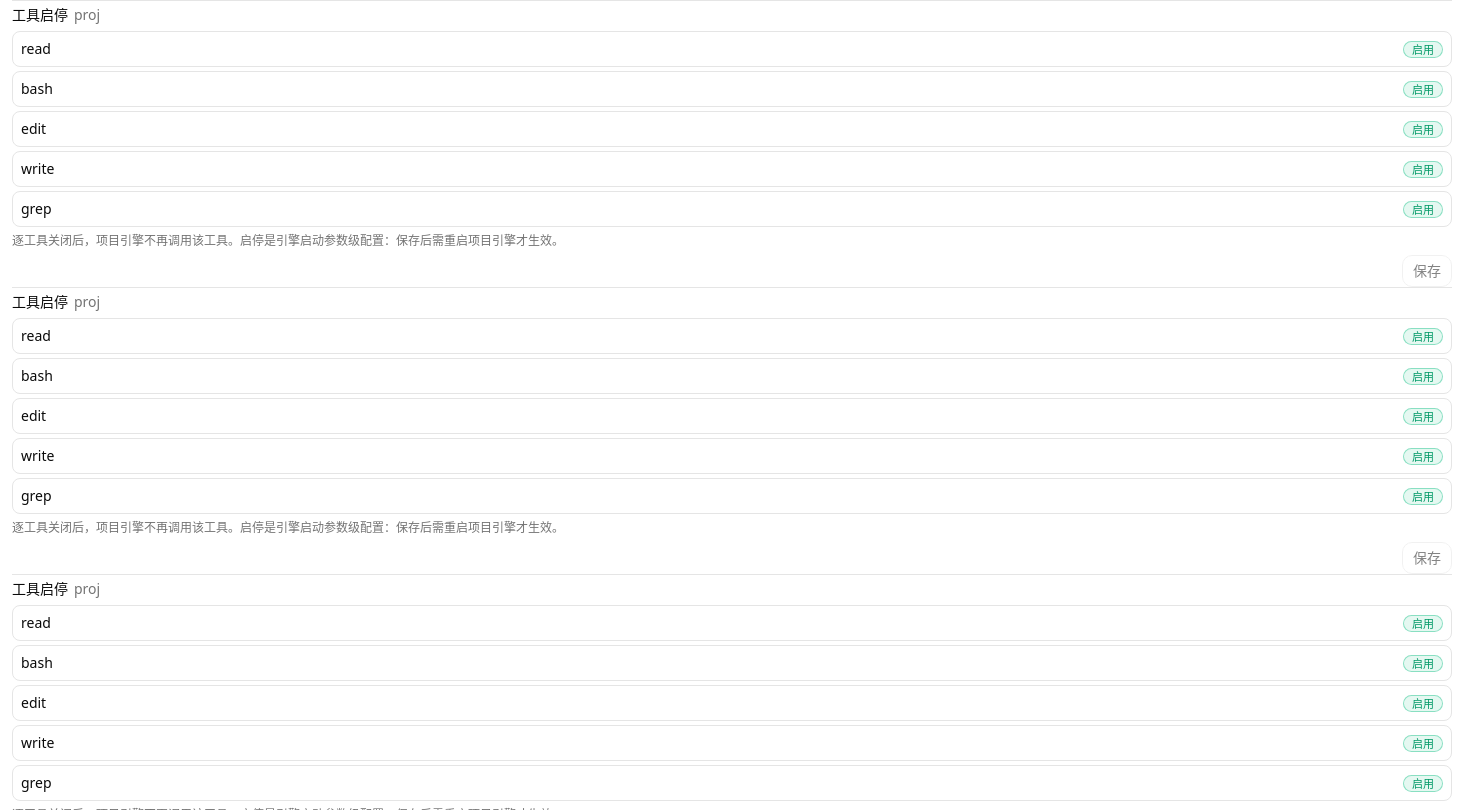
it: ToolsSection（r10 todo 17） › (c) 全部关闭 → 降级提示外显
Click the switch with test id "tools-toggle-read" at (1423,623), box [1403, 614, 1443, 632]
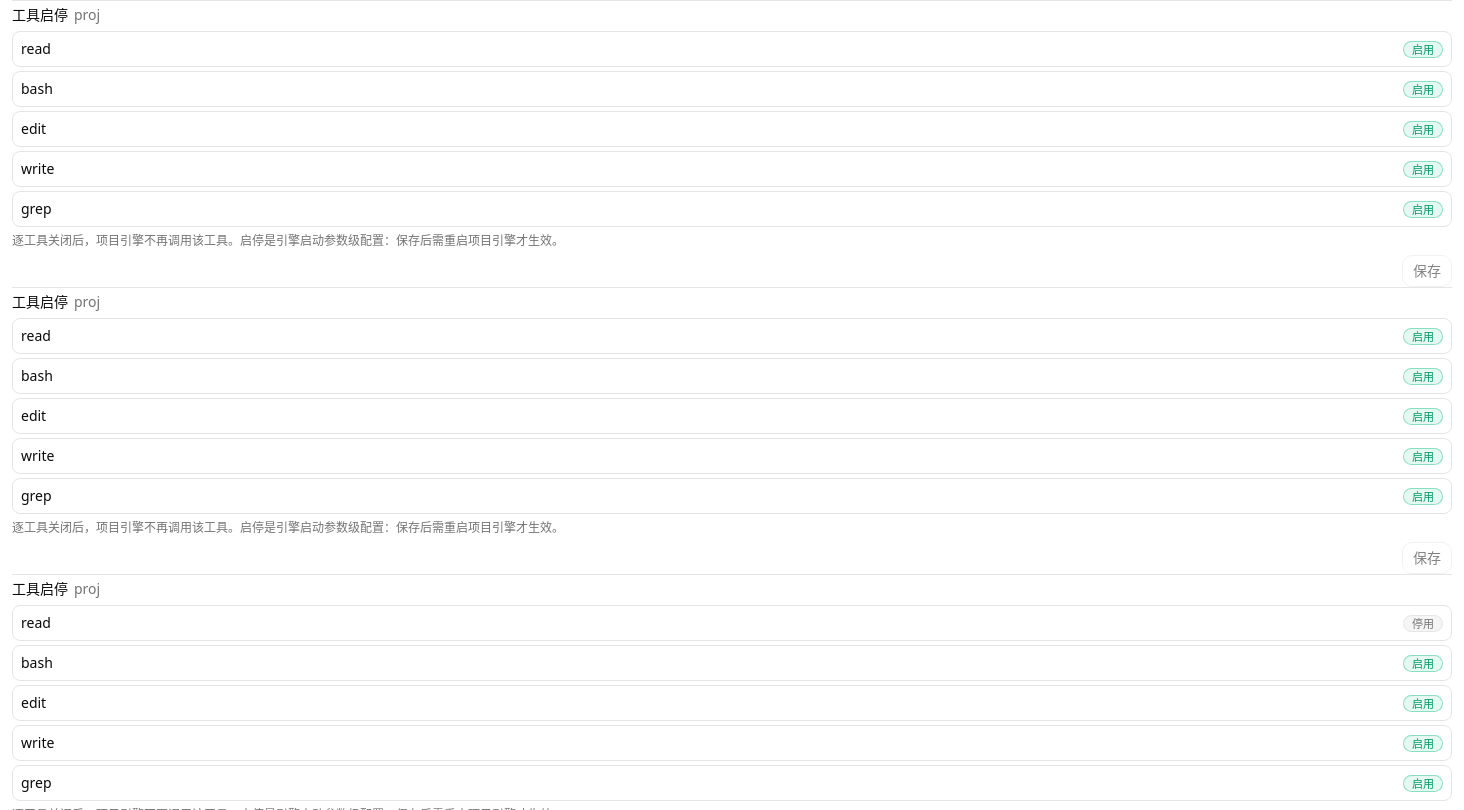
Click the switch with test id "tools-toggle-bash" at (1423,663), box [1403, 654, 1443, 672]
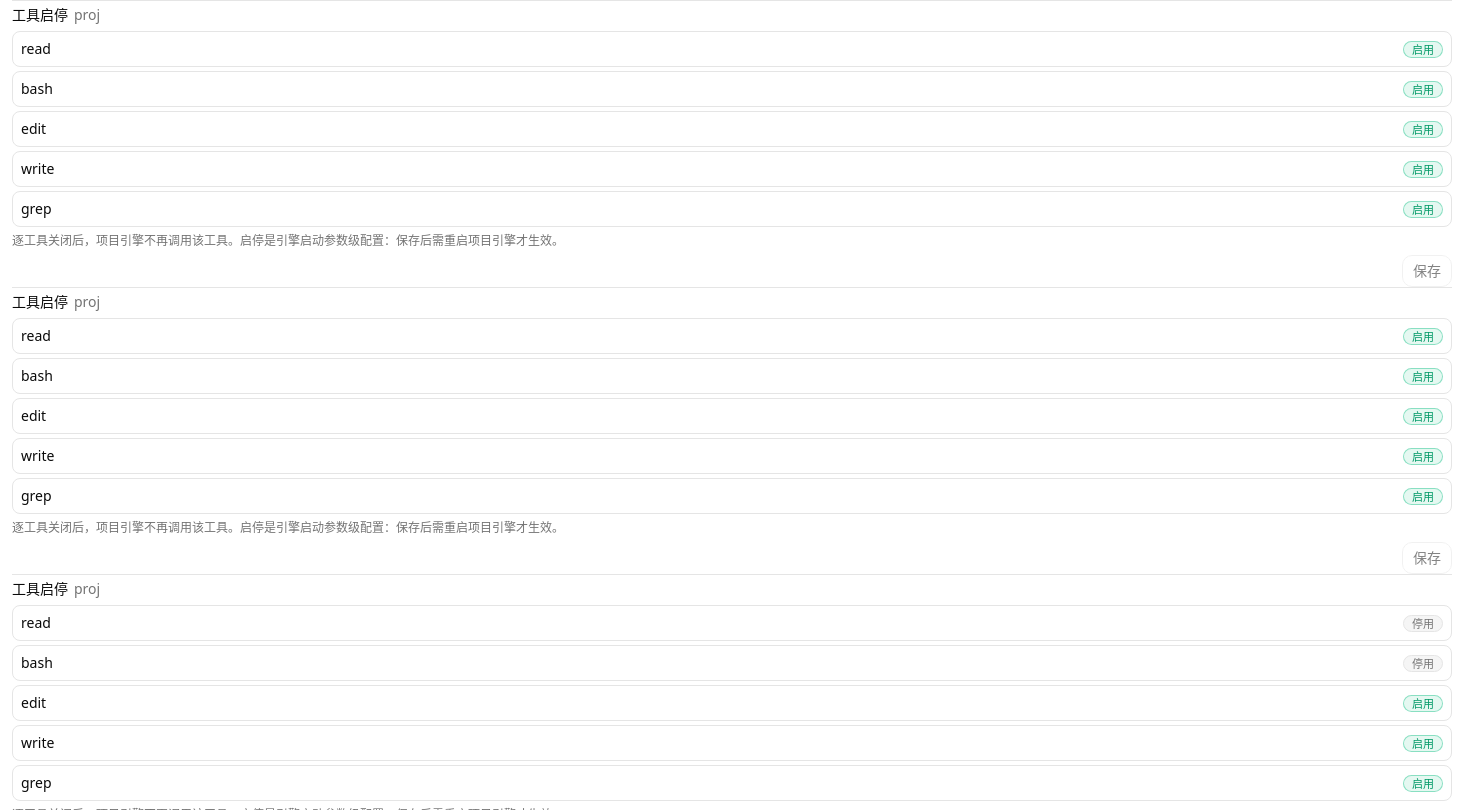
Click the 11th switch labelled "启用" at (1423,703), box [1403, 694, 1443, 712]
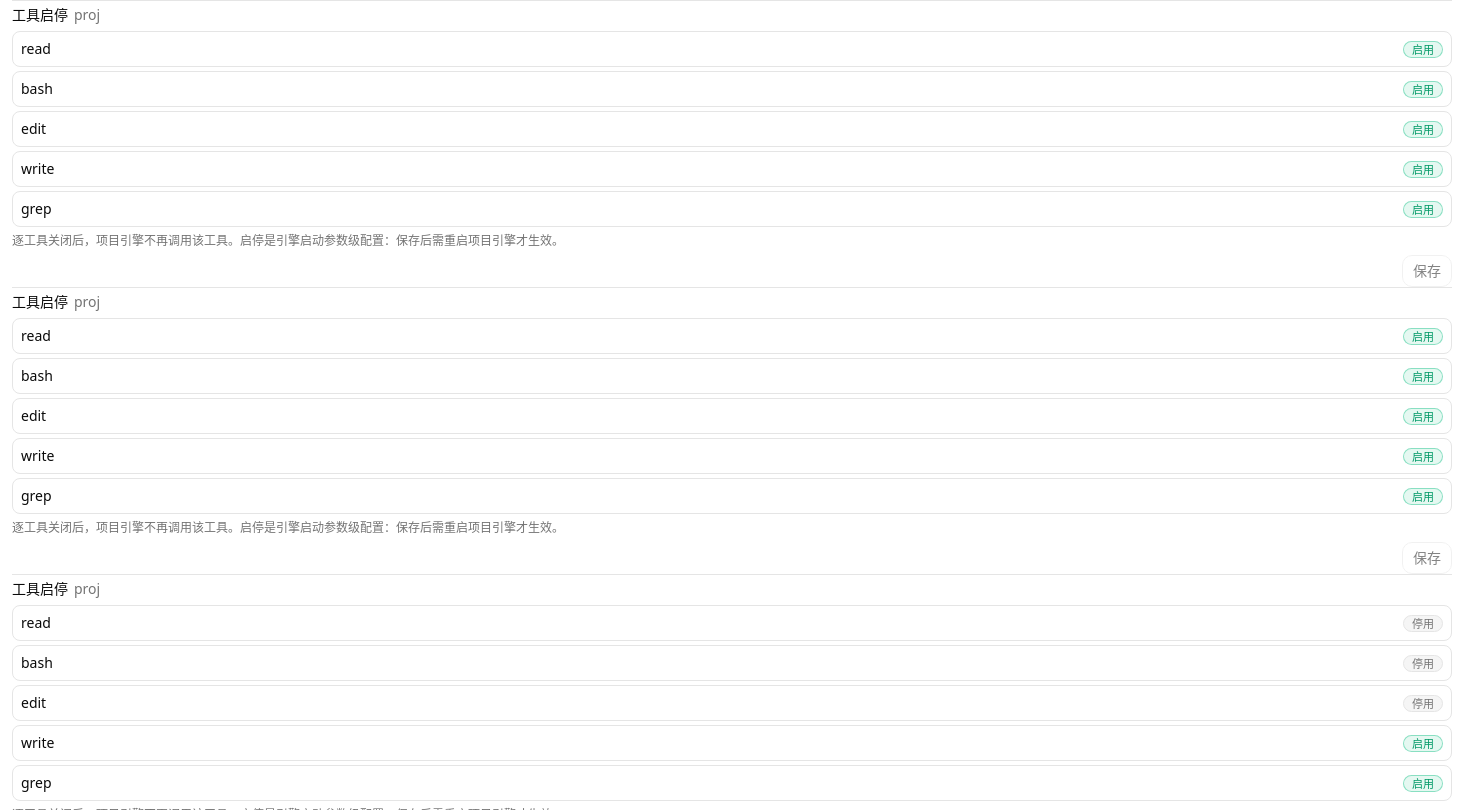
Click the switch with test id "tools-toggle-write" at (1423,743), box [1403, 734, 1443, 752]
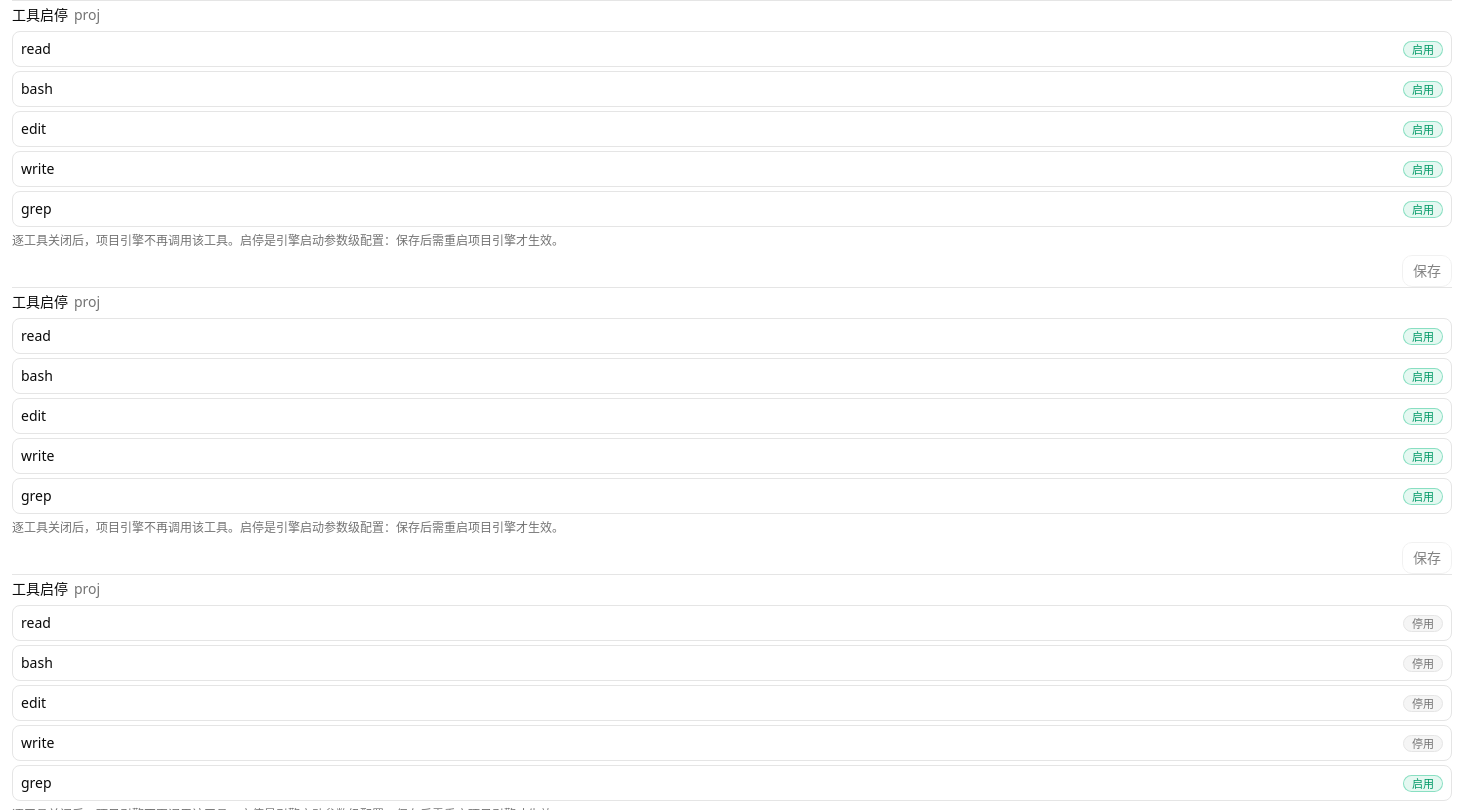
Click the 11th switch labelled "启用" at (1423,783), box [1403, 774, 1443, 792]
(page scrolled)
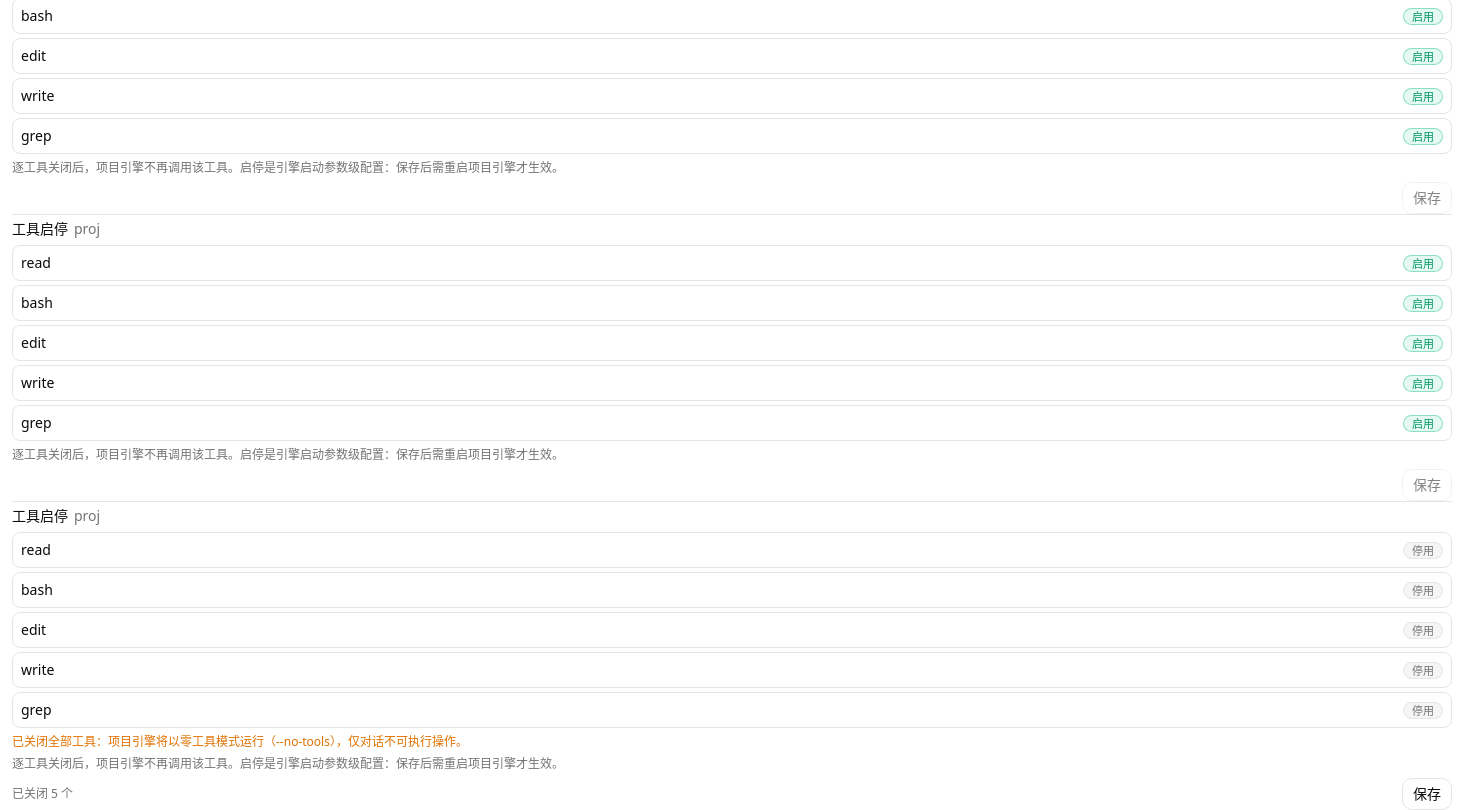
Check: the text "已关闭全部工具：项目引擎将以零工具模式运行（--no-tools），仅对话不可执行操作。" is shown, box [12, 733, 468, 750]
Check: the text with test id "tools-disabled-count" shows "5", box [12, 785, 73, 802]
